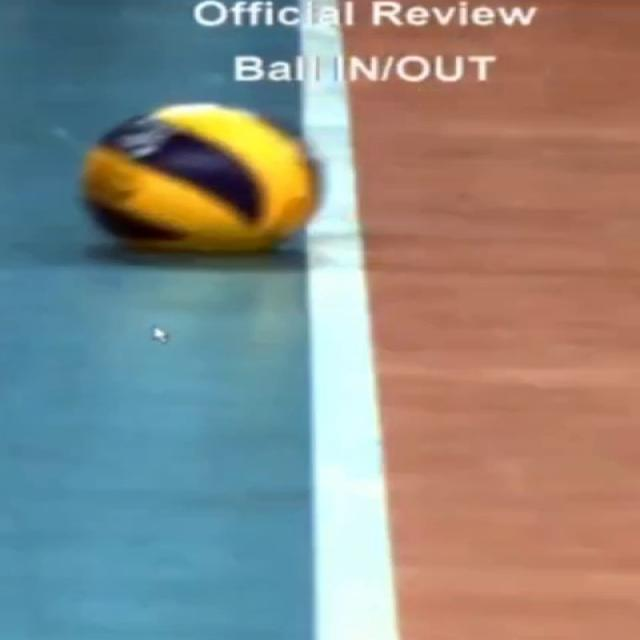Volleyball: (86, 100, 318, 252)
